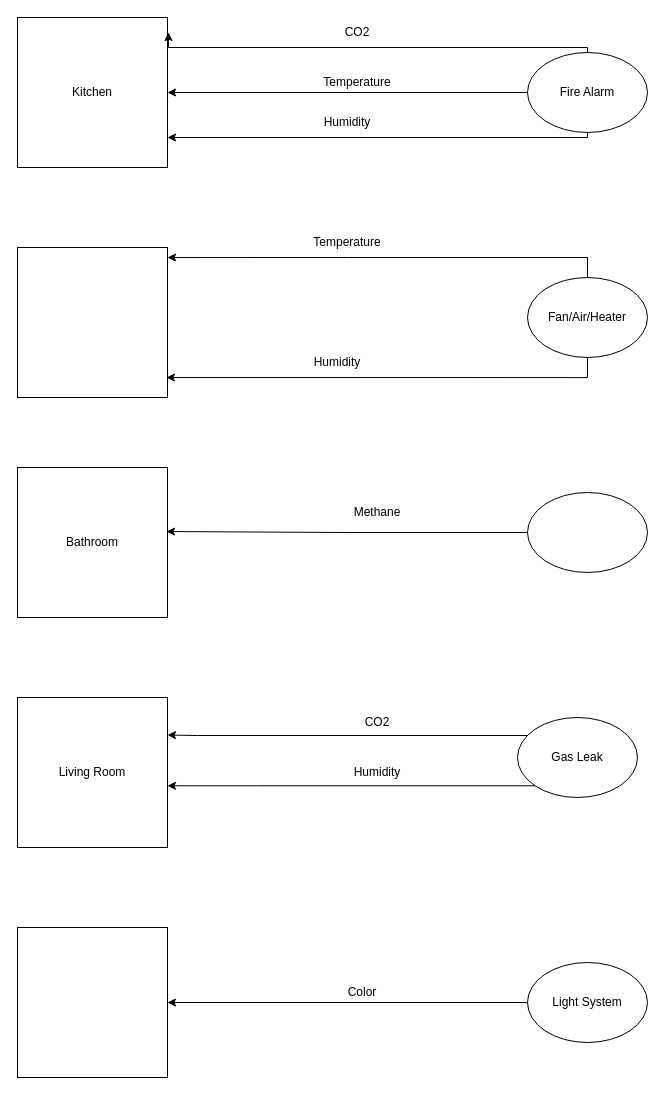
This 665x1095 diagram has some shape labels left out. The shapes that lost their labels are listed below. From the top down, each one's centre as x and y in pixels, then its label:
At point 92,322: "Bedroom".
At point 587,532: "Airpurifier".
At point 92,1002: "Office".
